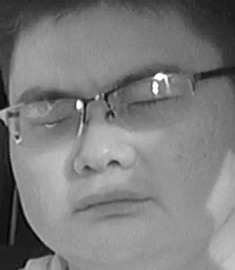blink: (126, 92, 170, 109), (41, 114, 79, 126)
glass: (105, 71, 199, 130), (1, 97, 89, 147)
mouth: (70, 185, 150, 220)
